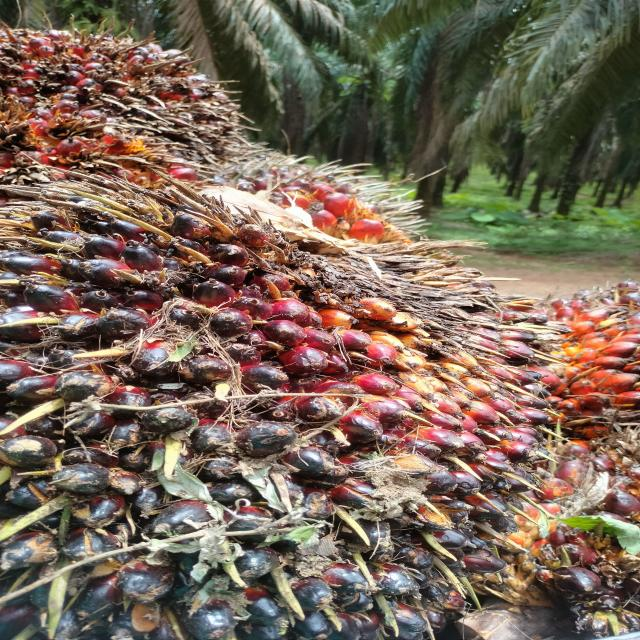fraksi 00: (0, 150, 558, 640)
fraksi 3: (486, 266, 640, 438)
